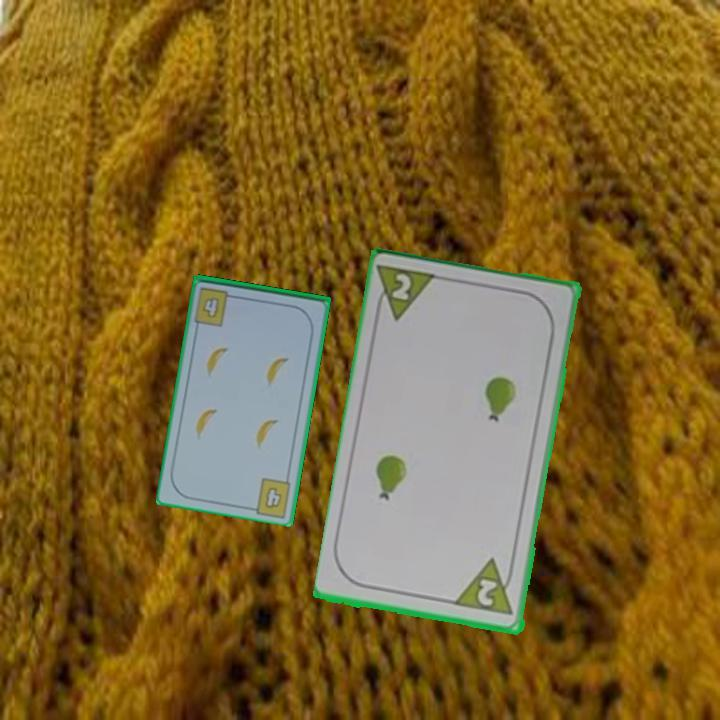2p: (371, 261, 441, 325), (453, 555, 518, 619)
4b: (193, 284, 240, 329), (262, 484, 285, 512)
